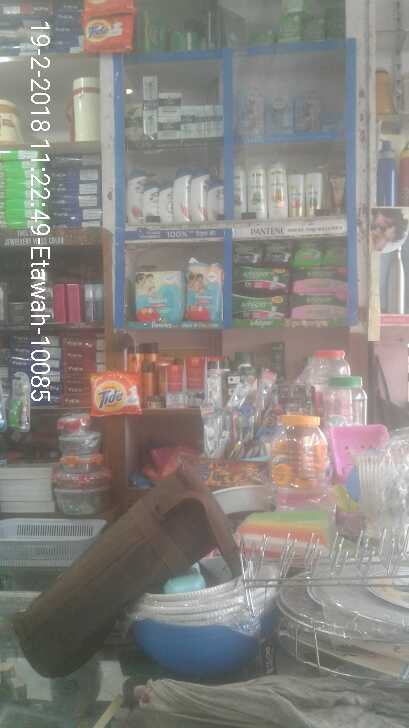venus: (238, 91, 266, 133), (266, 95, 294, 133), (294, 95, 319, 132), (319, 112, 345, 132)
